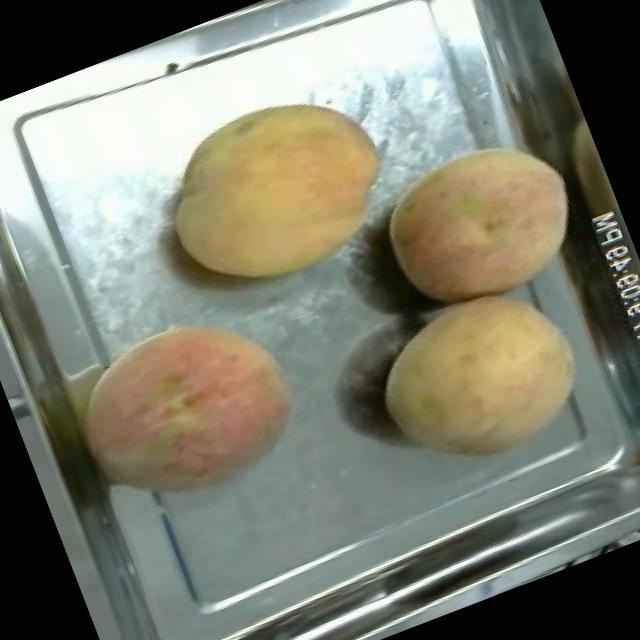Fruit: (134, 64, 418, 318), (53, 279, 324, 528), (349, 257, 614, 499), (358, 112, 604, 334)
